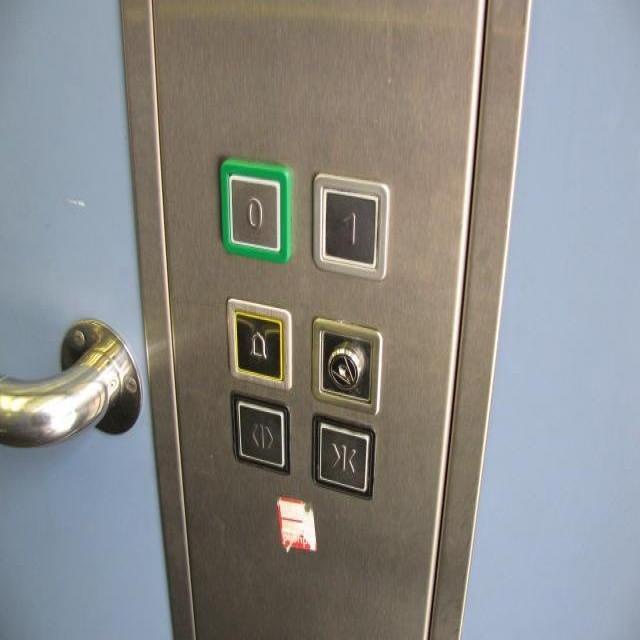0: (218, 157, 290, 263)
1: (311, 170, 388, 278)
alarm: (225, 294, 291, 390)
bt_keyhole: (311, 313, 382, 415)
close: (312, 411, 375, 500)
open: (230, 387, 292, 477)
